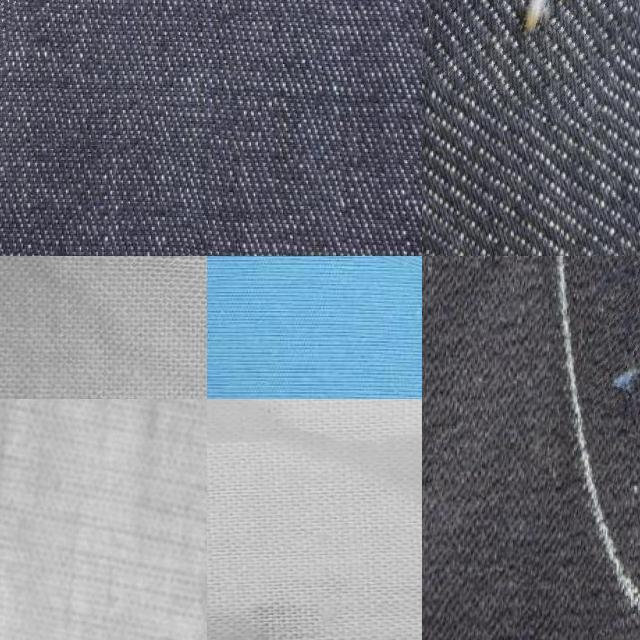Thread_other: (422, 0, 636, 115), (586, 258, 640, 426)
